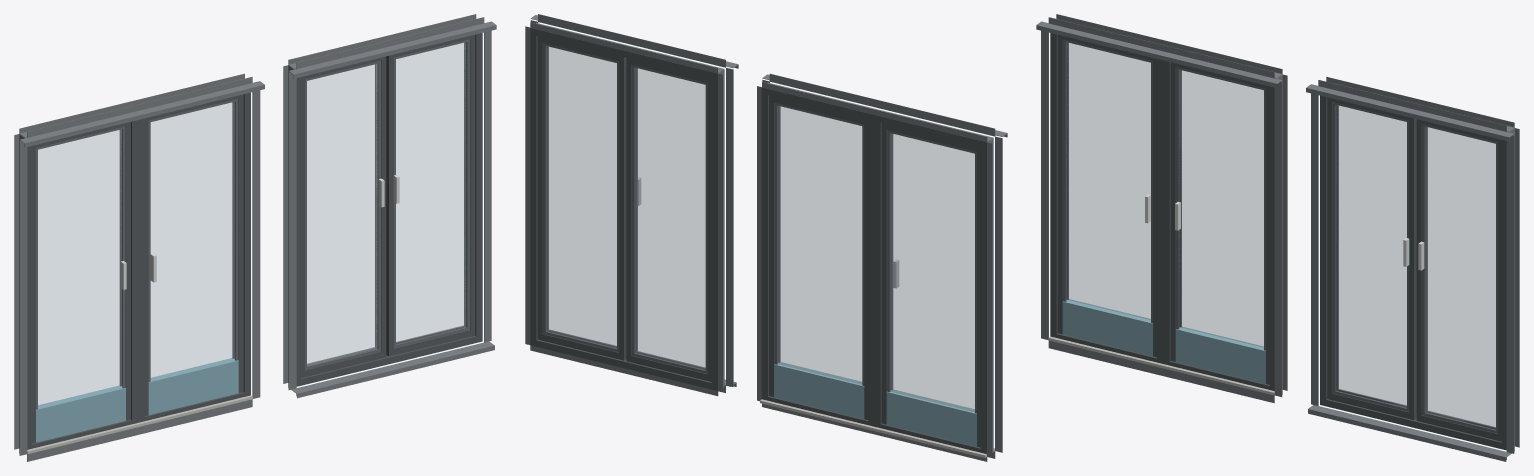
Rendered from Abertura_B2_lado_B_puerta_y_ventana_al_piso_3.77m.dae.
The picture shows the model from 3 angles, left to right: view 1: azimuth 30°, elevation 25°; view 2: azimuth 150°, elevation 25°; view 3: azimuth 330°, elevation 25°; orthographic projection.
Parts seen in each view (by area): view 1: Vidrio (×2), Perfil aluminio (×2), Contramarco (×2), Junquillo (×2), Hoja puerta, Umbral hormigon; view 2: Vidrio (×2), Perfil aluminio (×2), Contramarco (×2), Junquillo (×2), Hoja puerta, Umbral hormigon; view 3: Vidrio (×2), Perfil aluminio (×2), Contramarco (×2), Junquillo (×2), Hoja puerta, Umbral hormigon.
Part boxes in pixels (box(x1,y1,x2,y2)): Vidrio (×2): box(38, 42, 465, 406); Perfil aluminio (×2): box(27, 33, 482, 449); Contramarco (×2): box(14, 14, 496, 461); Junquillo (×2): box(36, 39, 469, 409); Hoja puerta: box(36, 358, 238, 442); Umbral hormigon: box(27, 395, 252, 454); Vidrio (×2): box(546, 46, 974, 411); Perfil aluminio (×2): box(530, 28, 987, 456); Contramarco (×2): box(525, 14, 1007, 461); Junquillo (×2): box(543, 43, 976, 413); Hoja puerta: box(774, 362, 976, 446); Umbral hormigon: box(760, 399, 994, 457); Vidrio (×2): box(1067, 43, 1495, 427); Perfil aluminio (×2): box(1050, 33, 1506, 450); Contramarco (×2): box(1036, 14, 1519, 461); Junquillo (×2): box(1063, 39, 1497, 433); Hoja puerta: box(1062, 299, 1265, 383); Umbral hormigon: box(1048, 336, 1274, 395).
Bounding box in the file's own units: 3.77 × 0.215 × 2.54.
